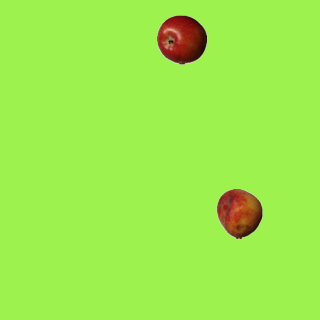Apple Braeburn: (156, 14, 206, 64)
Peach: (214, 188, 264, 238)
